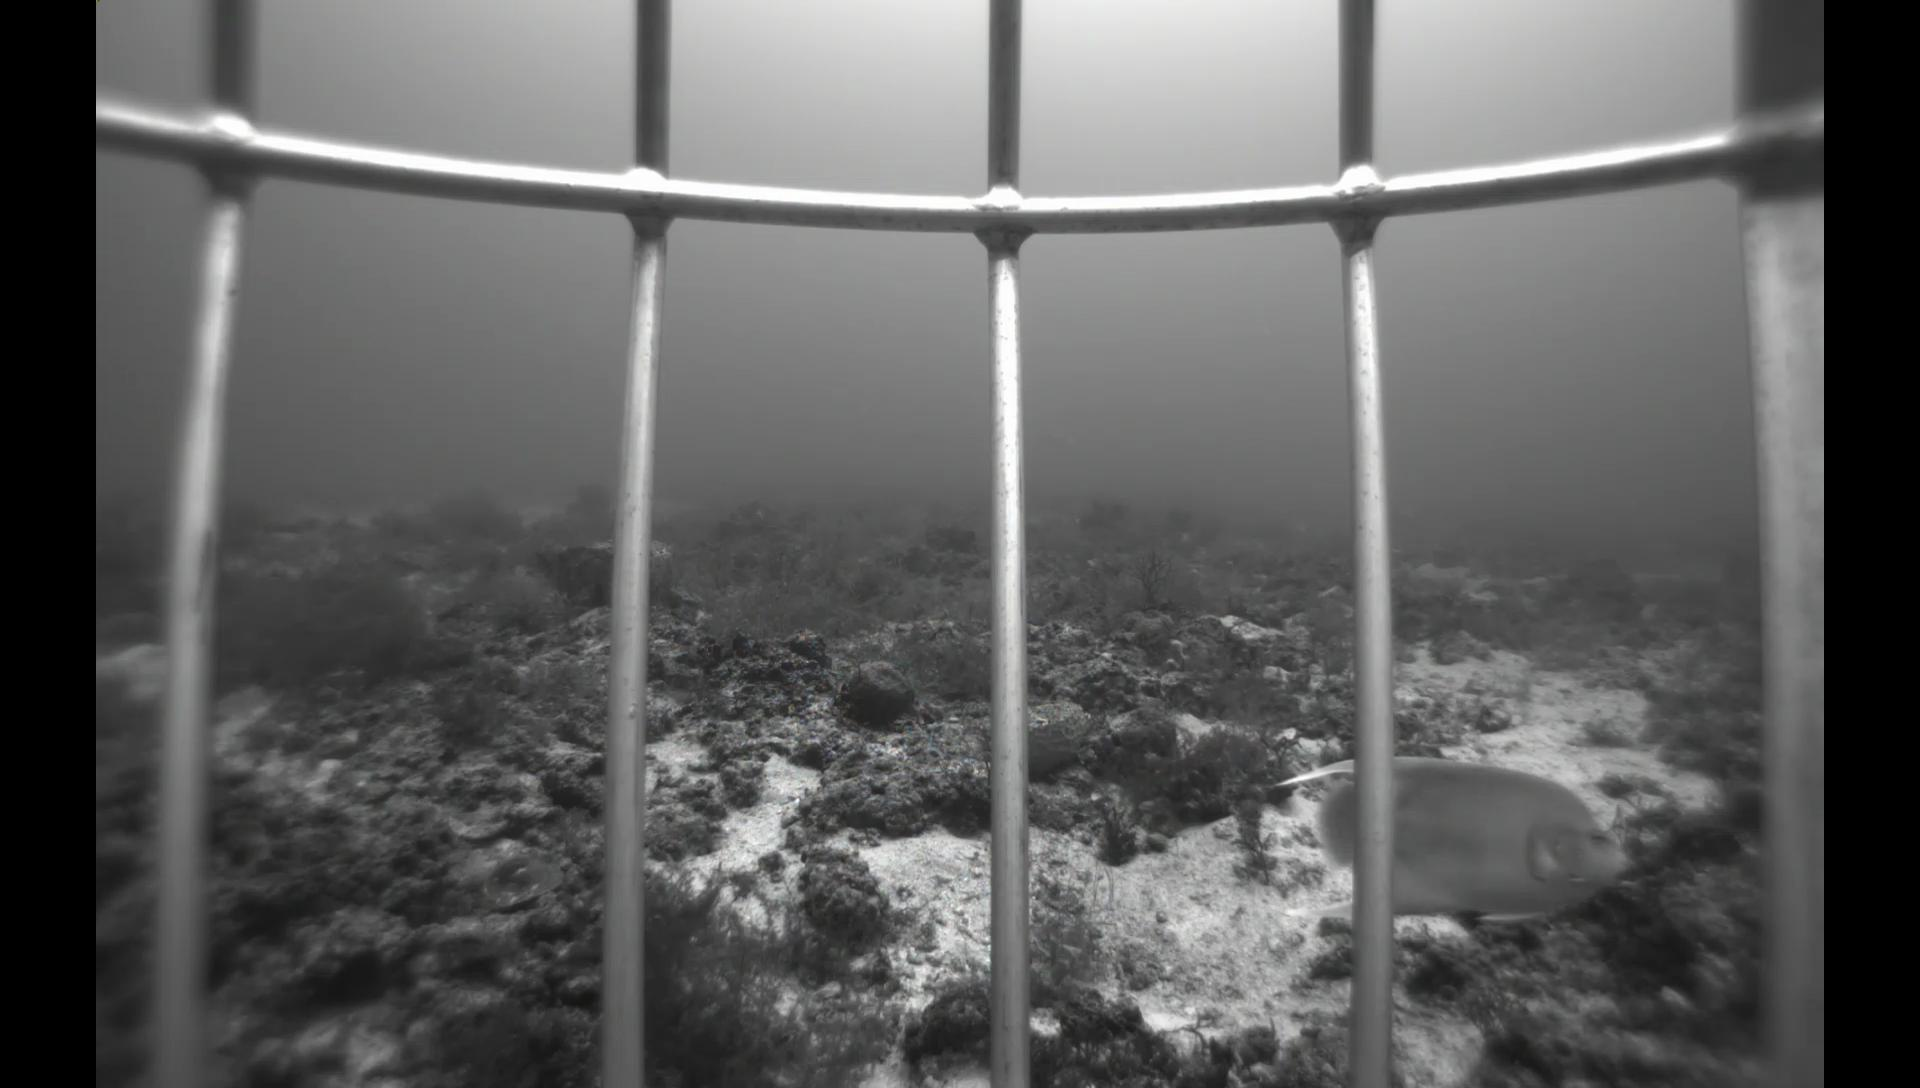HOLACANTHUSBERMUDENSIS-170290102: (1265, 748, 1639, 935)
SERRANUSANNULARIS-170024201: (417, 921, 524, 961)
